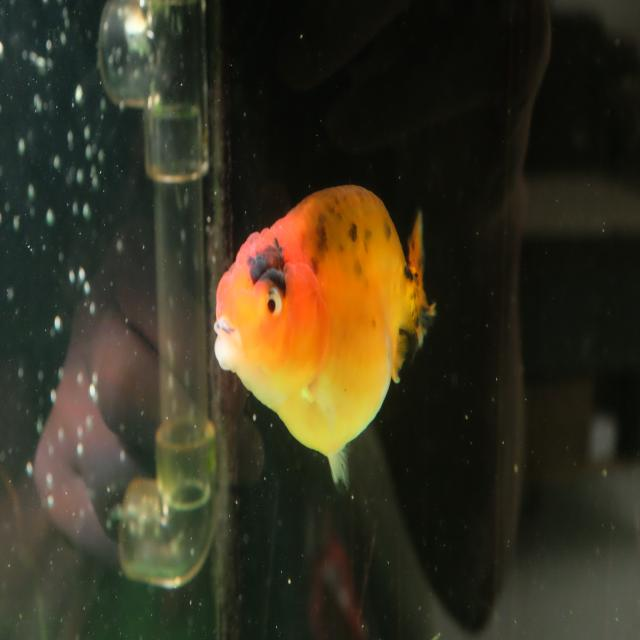Goldfish: (213, 182, 438, 498)
